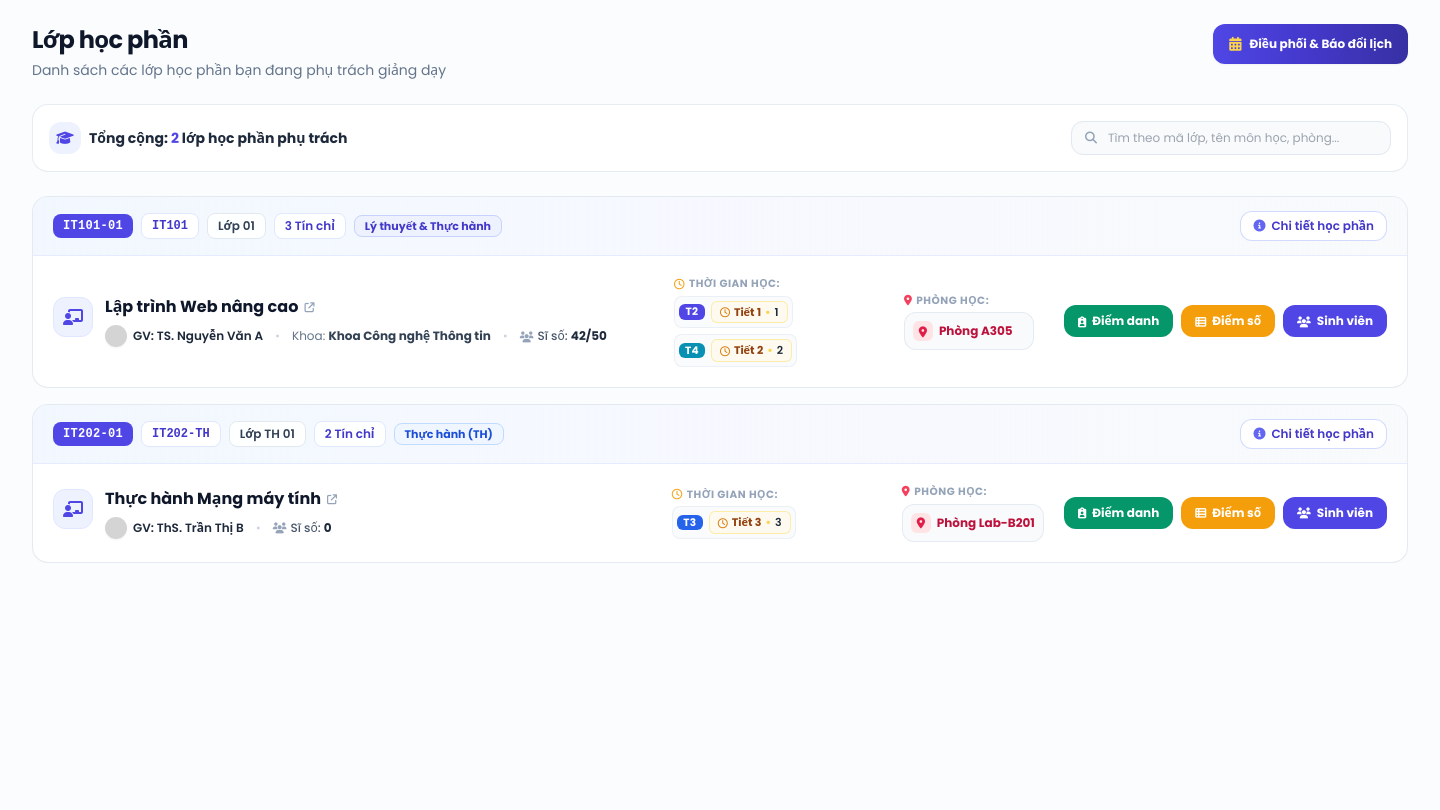
Scenario: TeacherClassList Card Layout & Course Detail Overhaul › opens Course Details modal with decoupled LT/TH breakdown, prerequisites, and grade weights
The image size is (1440, 810).
Click the button "Chi tiết học phần" in the row of "Lý thuyết & Thực hành".
click(1314, 226)  # box [1240, 211, 1387, 241]
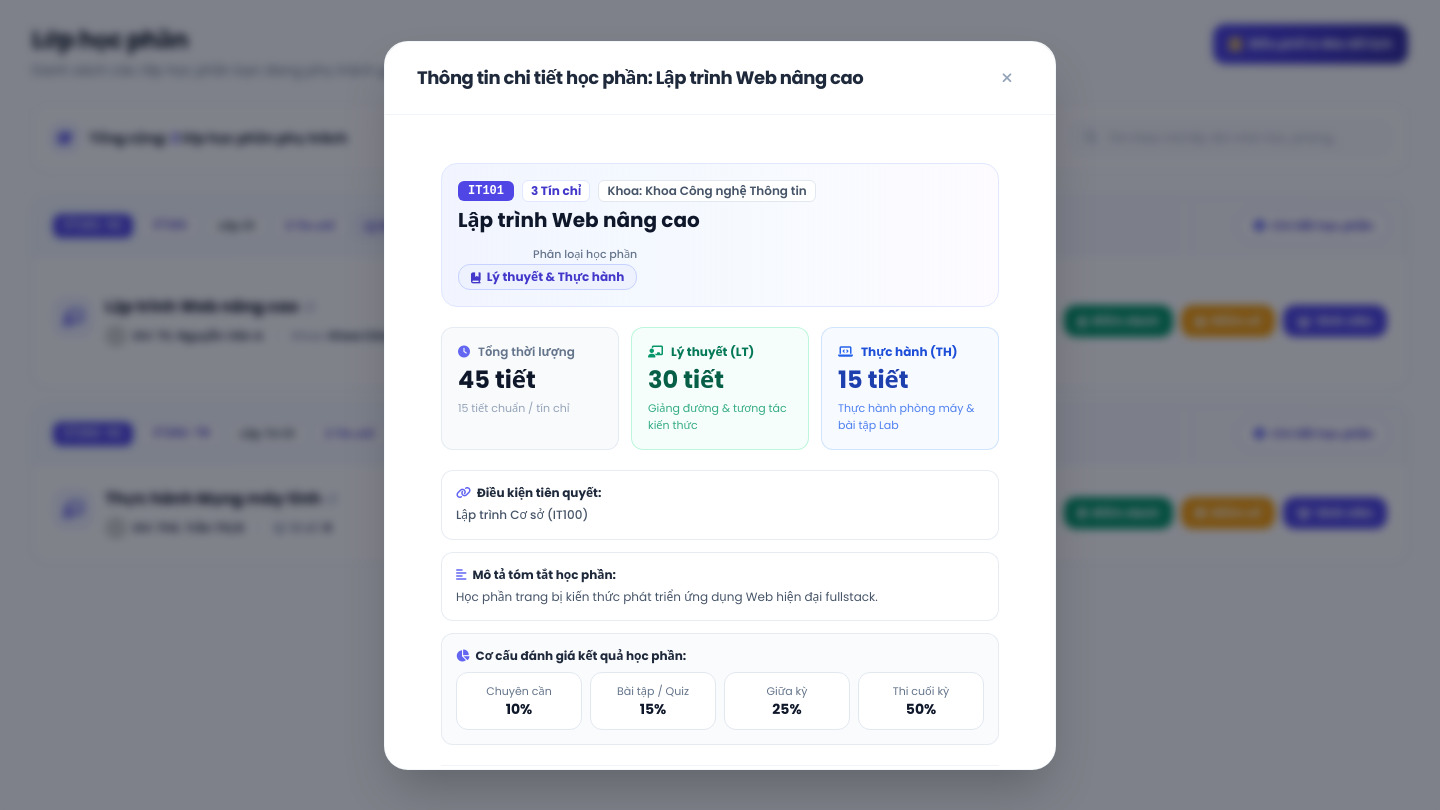
Check: the heading "Thông tin chi tiết học phần: Lập trình Web nâng cao" is shown, box [417, 64, 863, 92]
Check: the text "30 tiết" is shown, box [648, 363, 724, 396]
Check: the text "15 tiết chuẩn / tín chỉ" is shown, box [458, 400, 570, 416]
Close button dismisses modal
Click the button named "Đóng".
click(1007, 78)  # box [991, 62, 1023, 94]
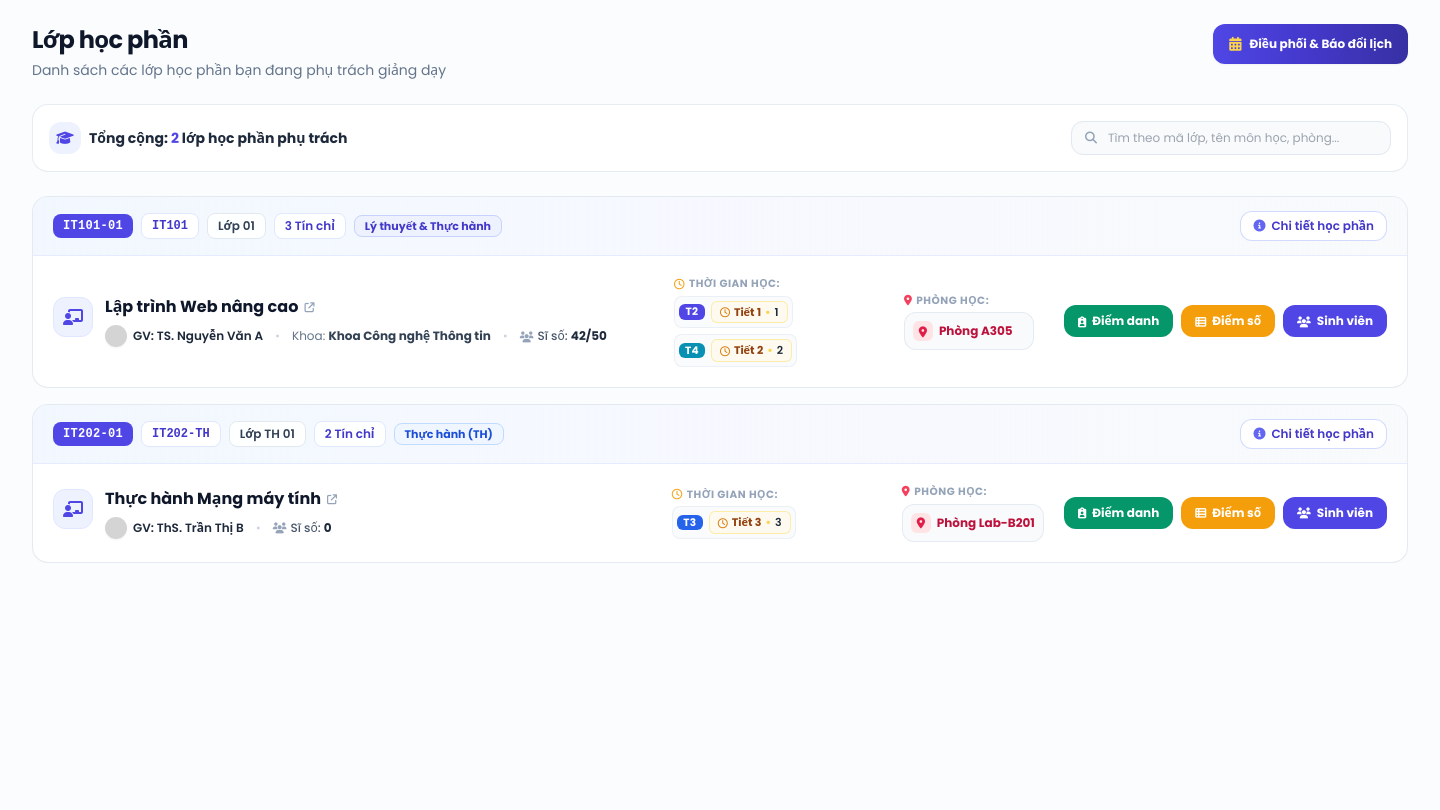
Check: the heading "Thông tin chi tiết học phần: Lập trình Web nâng cao" is gone
